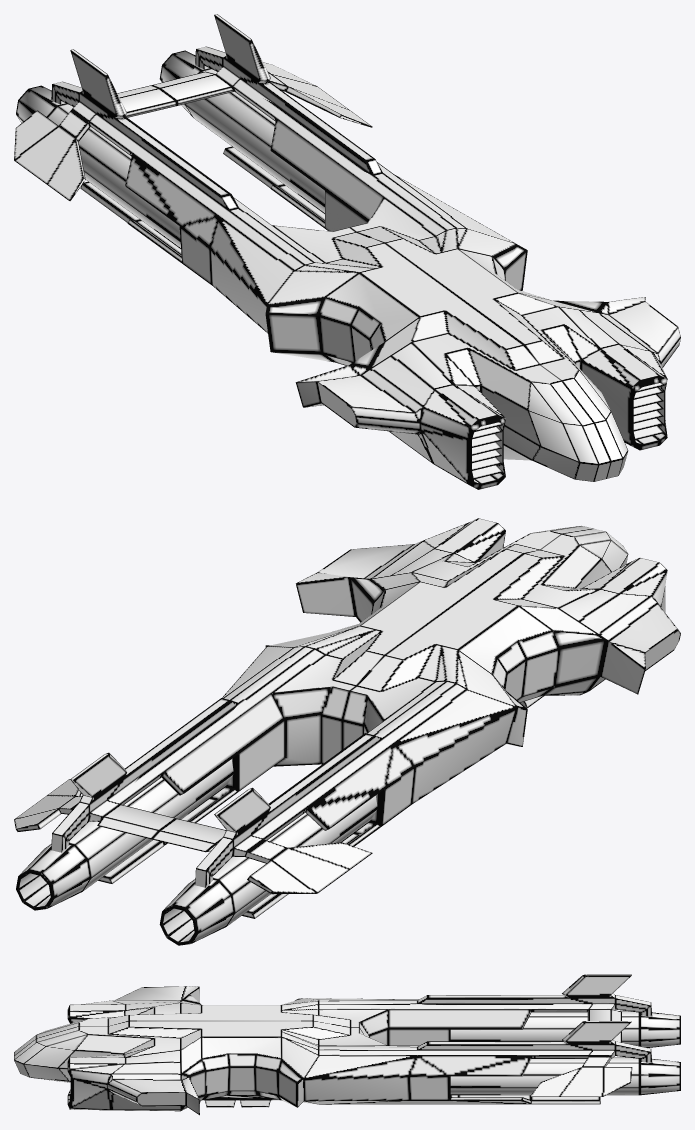
File: rumpf.obj
The picture shows the model from 3 angles, top to bottom: view 1: azimuth 30°, elevation 25°; view 2: azimuth 150°, elevation 25°; view 3: azimuth 270°, elevation 25°; orthographic projection. The views are drawn at different scales.
Parts seen in each view (by area): view 1: cube1_sep135_cube1_auv; view 2: cube1_sep135_cube1_auv; view 3: cube1_sep135_cube1_auv.
Boxes of the visible parts, <box> form: cube1_sep135_cube1_auv: <box>14,14,680,489</box>; cube1_sep135_cube1_auv: <box>14,518,680,945</box>; cube1_sep135_cube1_auv: <box>14,974,680,1115</box>.
Bounding box in the file's own units: 17.23 × 6.86 × 42.97.
Materials: 2 (1 with a texture image).
